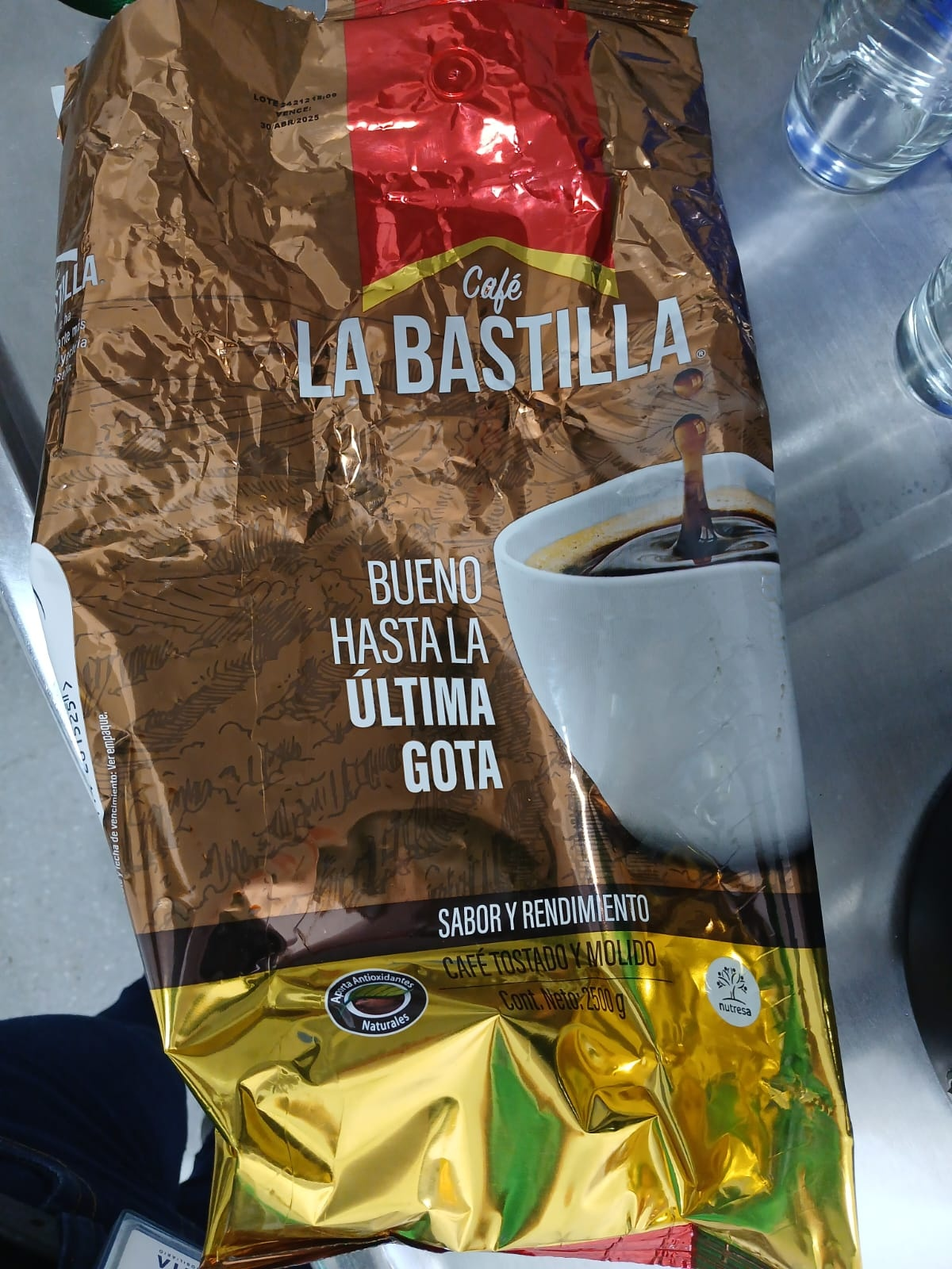Ordinario: (32, 0, 866, 1267)
